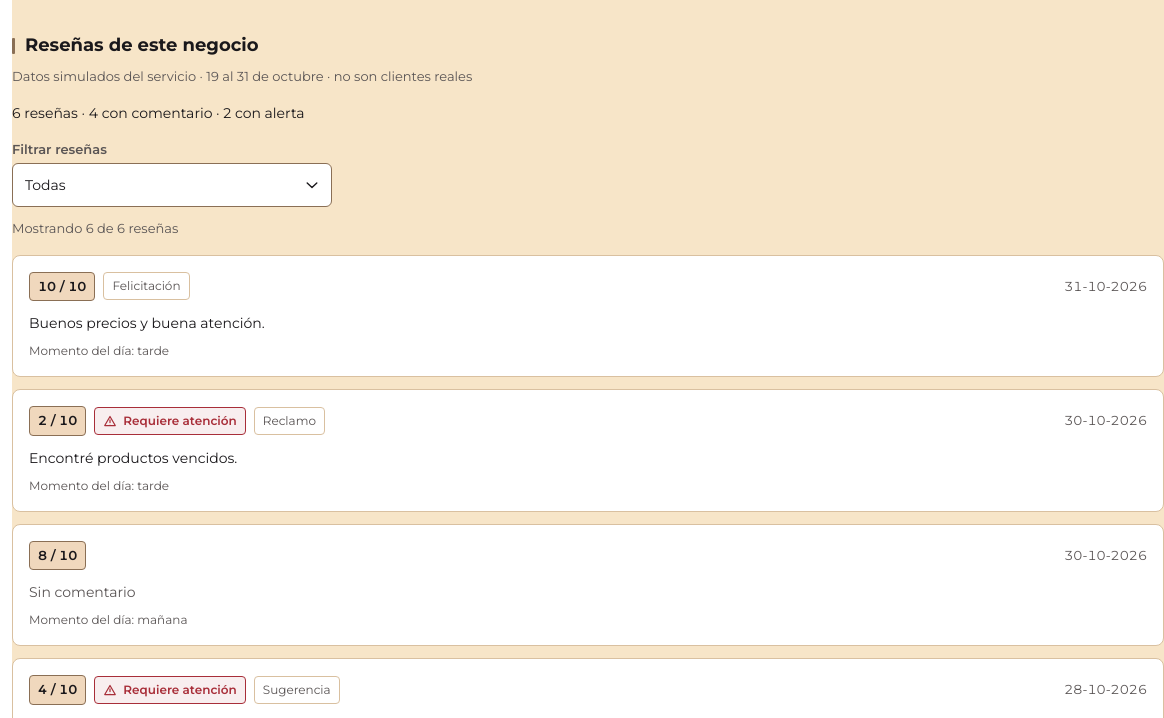
it: ResenasNegocio contra el servicio › 5. filtro Con comentario: 4 ítems, todos con texto real y conteo actualizado
This screenshot has width=1164, height=718.
Select "Con comentario" in the dropdown labelled "Filtrar reseñas" at (172, 185), box left=12, top=163, right=332, bottom=207
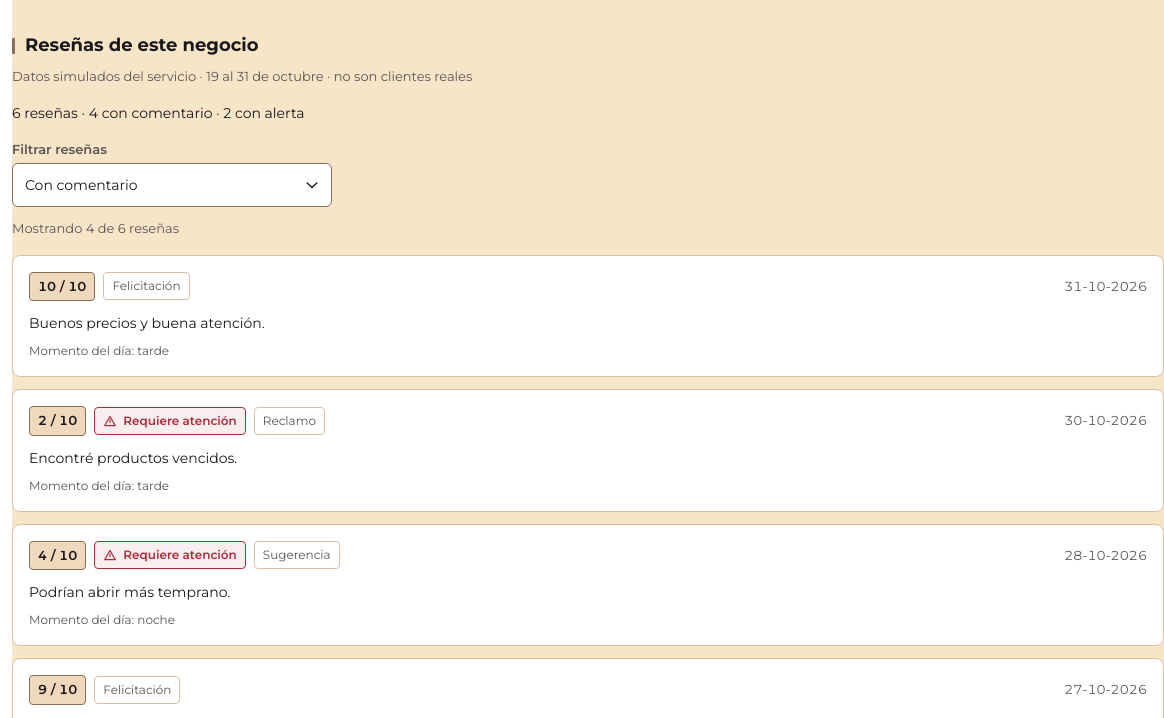
Result: the text "Mostrando 4 de 6 reseñas" is shown at left=12, top=220, right=179, bottom=236
Result: the text "Sin comentario" is not shown
